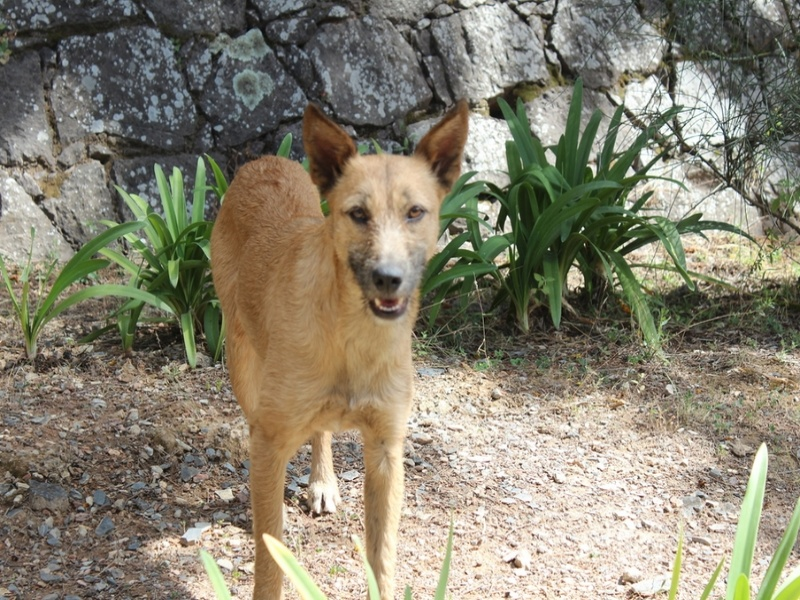dog: (200, 99, 479, 600)
